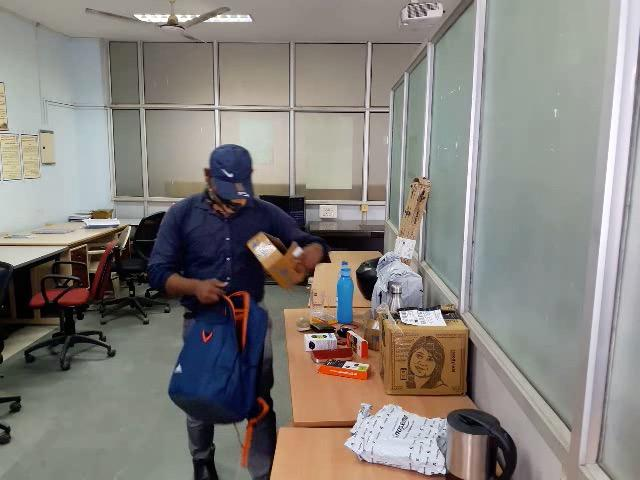shoplifting: (158, 224, 319, 434)
